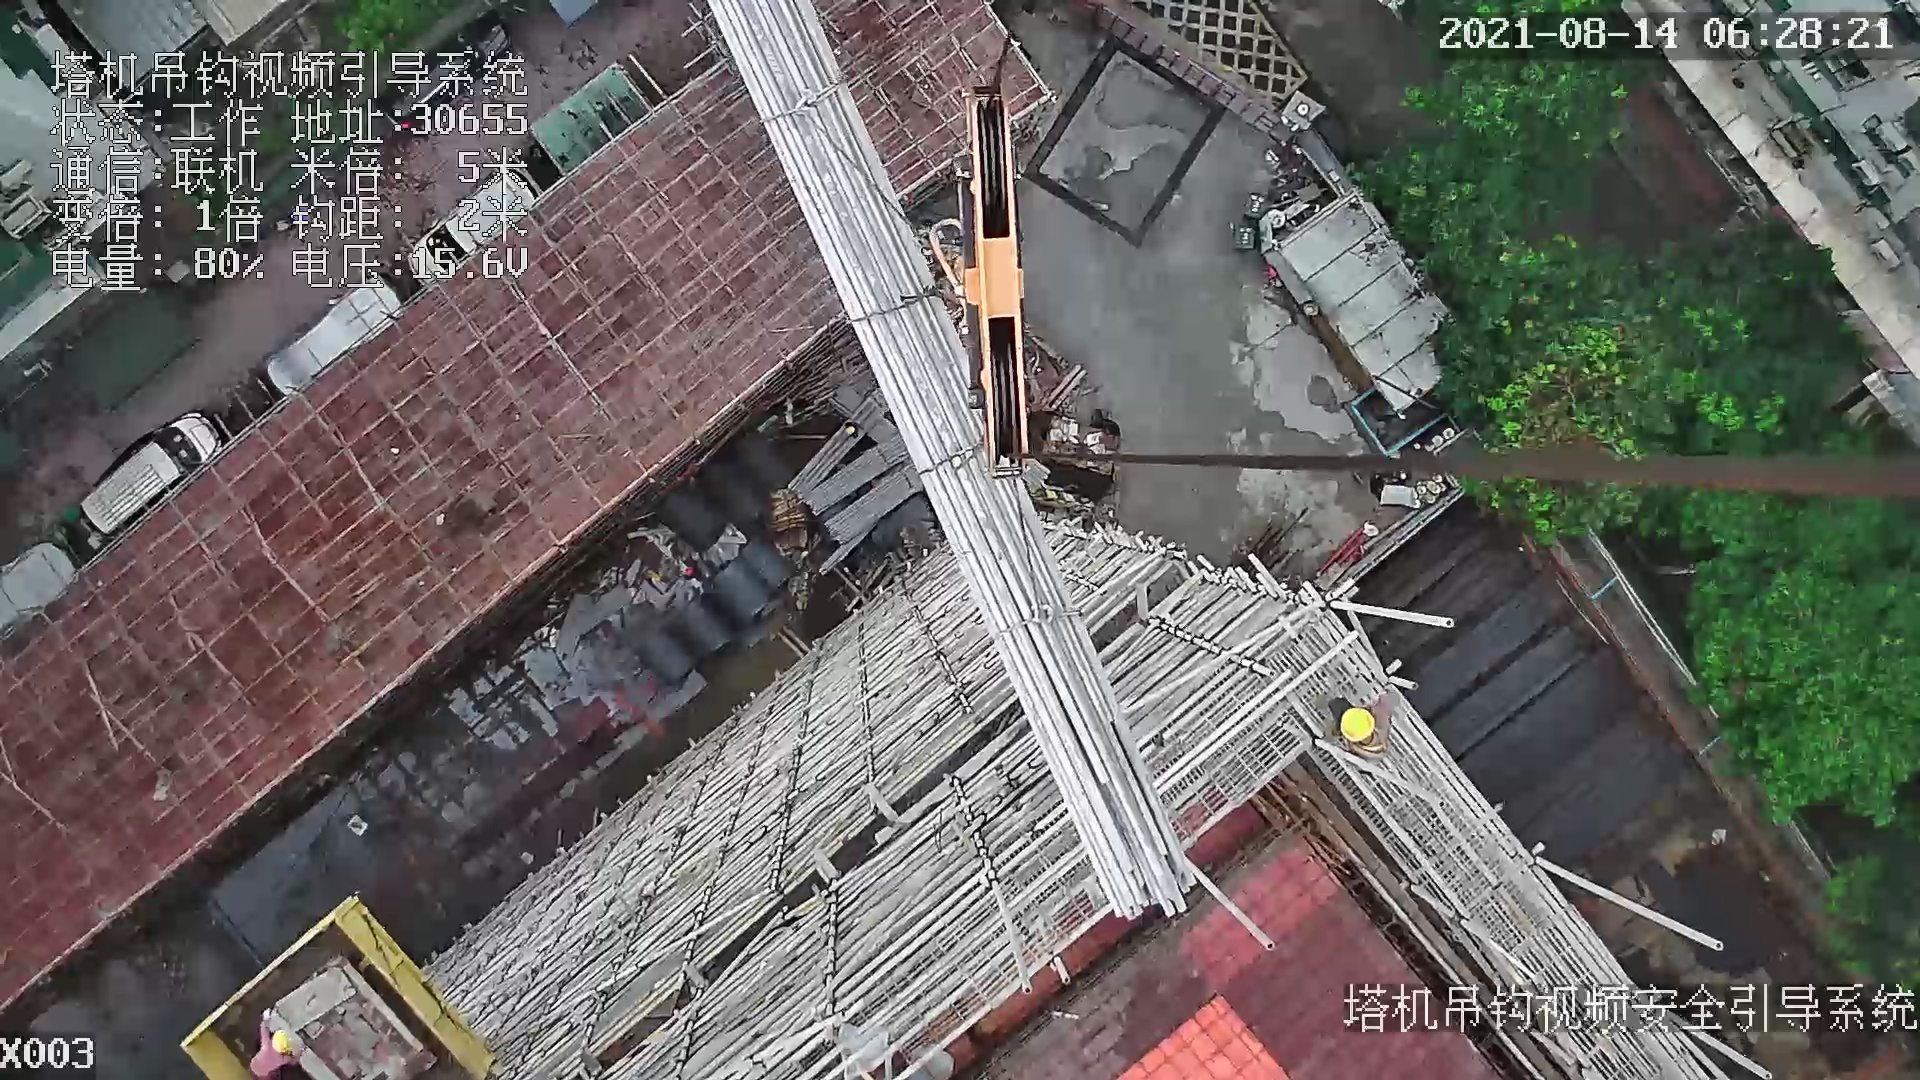helmet: (1332, 697, 1381, 742), (269, 1026, 291, 1055)
hook: (958, 86, 1034, 480)
person: (1328, 695, 1405, 772), (242, 1023, 305, 1080)
